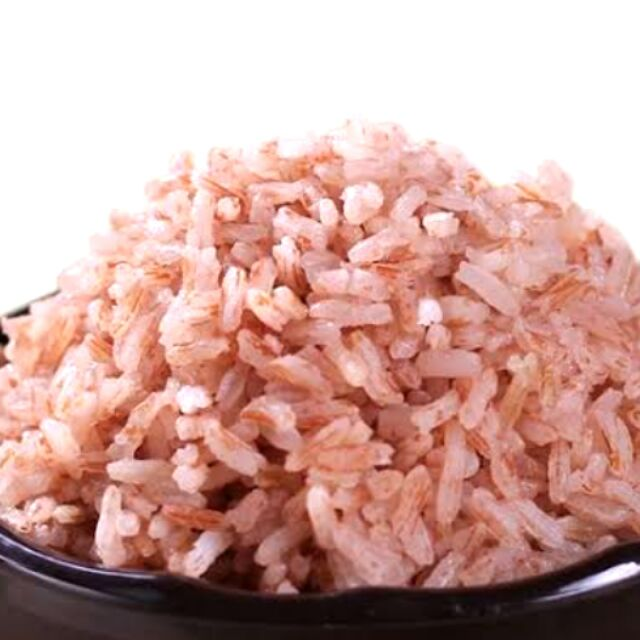Nasi Merah: (1, 172, 636, 600)
